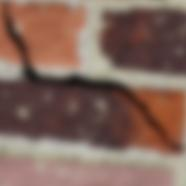brick: (97, 7, 185, 75), (0, 155, 174, 185)
broken_brick: (0, 78, 181, 154), (7, 1, 85, 68), (126, 87, 185, 144), (0, 0, 21, 64)
crack: (2, 0, 184, 150)
